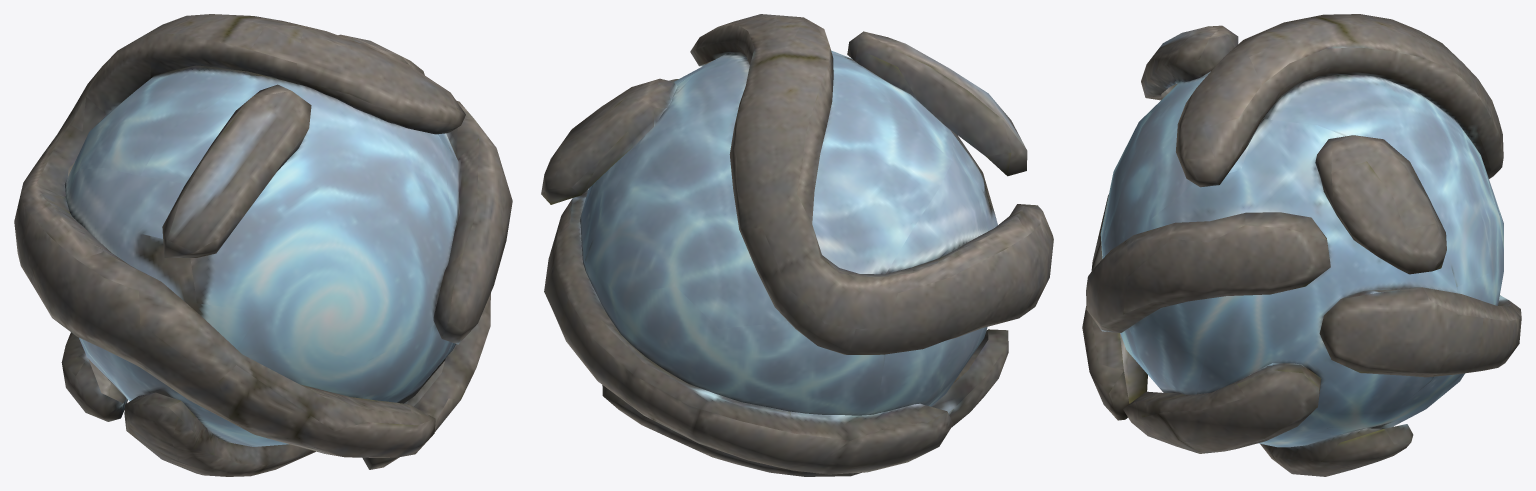
File: nucleo_golem.glb
The picture shows the model from 3 angles, left to right: view 1: azimuth 30°, elevation 25°; view 2: azimuth 150°, elevation 25°; view 3: azimuth 270°, elevation 25°; orthographic projection.
Parts seen in each view (by area): view 1: nucleo_golem2; view 2: nucleo_golem2; view 3: nucleo_golem2.
Part boxes in pixels (x1,y1,x2,y2): nucleo_golem2: (14, 14, 512, 476); nucleo_golem2: (541, 14, 1053, 476); nucleo_golem2: (1082, 14, 1521, 476).
Size of the model in its own units: 0.265 by 0.2594 by 0.241.
Materials: 1 (1 with a texture image).
